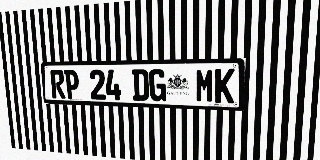2: (89, 69, 106, 100)
4: (105, 69, 121, 100)
D: (132, 69, 149, 101)
G: (149, 69, 166, 101)
K: (215, 68, 235, 103)
M: (195, 69, 214, 103)
P: (64, 70, 80, 99)
R: (50, 70, 66, 99)
